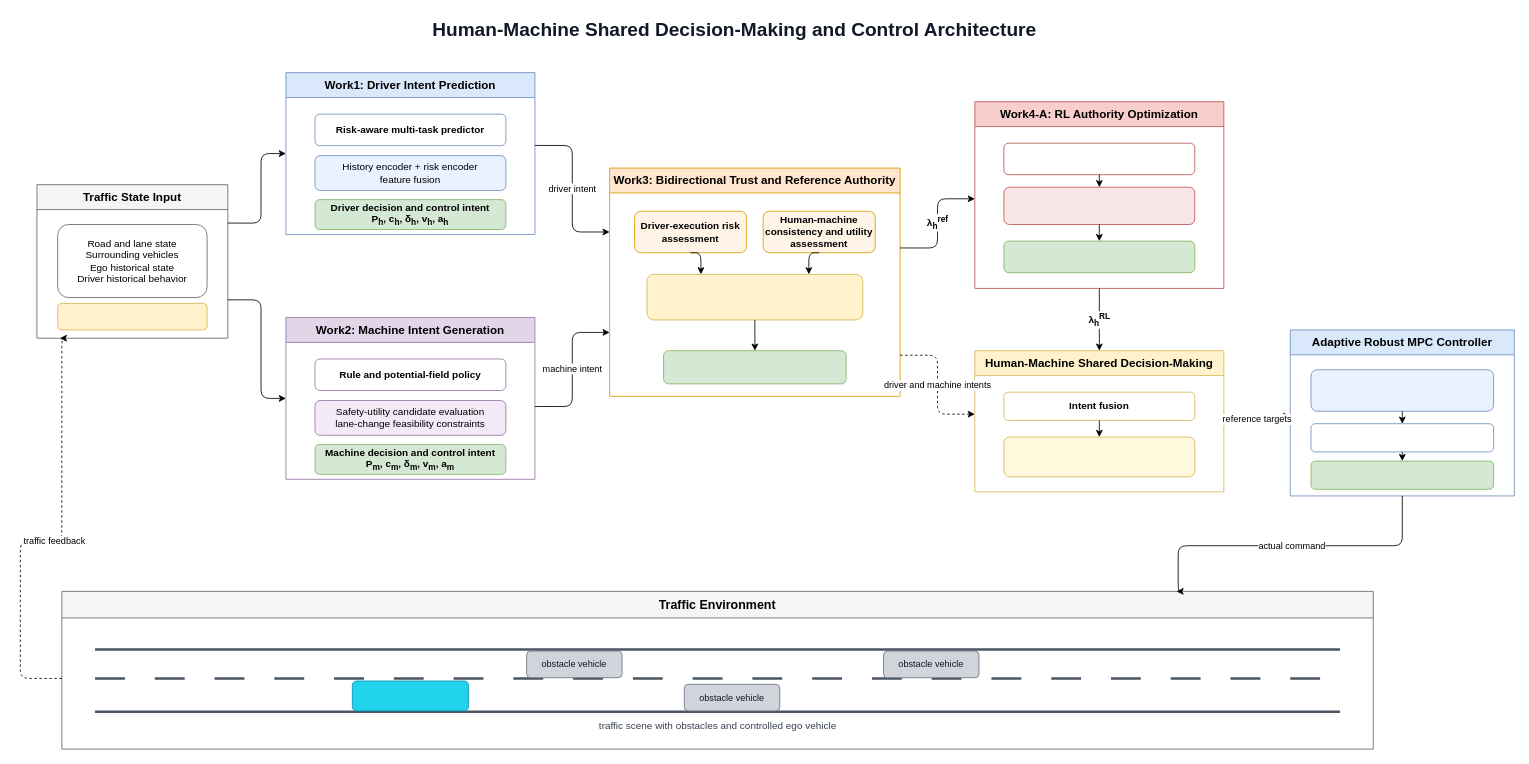
Some shapes in this 1529 by 764 pixel diagram are drawn without their labels. The centre of each missing label's shape, as x and y in pixels:
Actual control command δ cmd , a cmd: the point at 1402,474
Adaptive objective weighting safety, stability, comfort, efficiency: the point at 1402,390
controlled ego vehicle: the point at 410,695
Executable authority λ h RL (k:k+N): the point at 1099,256
Interval Type-2 TSK fuzzy inference input: trust, risk, disagreement: the point at 754,296
Reference authority sequence λ h ref (k:k+N): the point at 754,367
Reference trajectory and control intent τ ref , δ ref , a ref: the point at 1099,456
Risk field distance, relative speed, TTC, gap: the point at 132,316
Robust MPC-lite tracking: the point at 1402,437
Temporal observation encoding authority correction Δλ h: the point at 1099,205
Transformer actor-critic: the point at 1099,158
